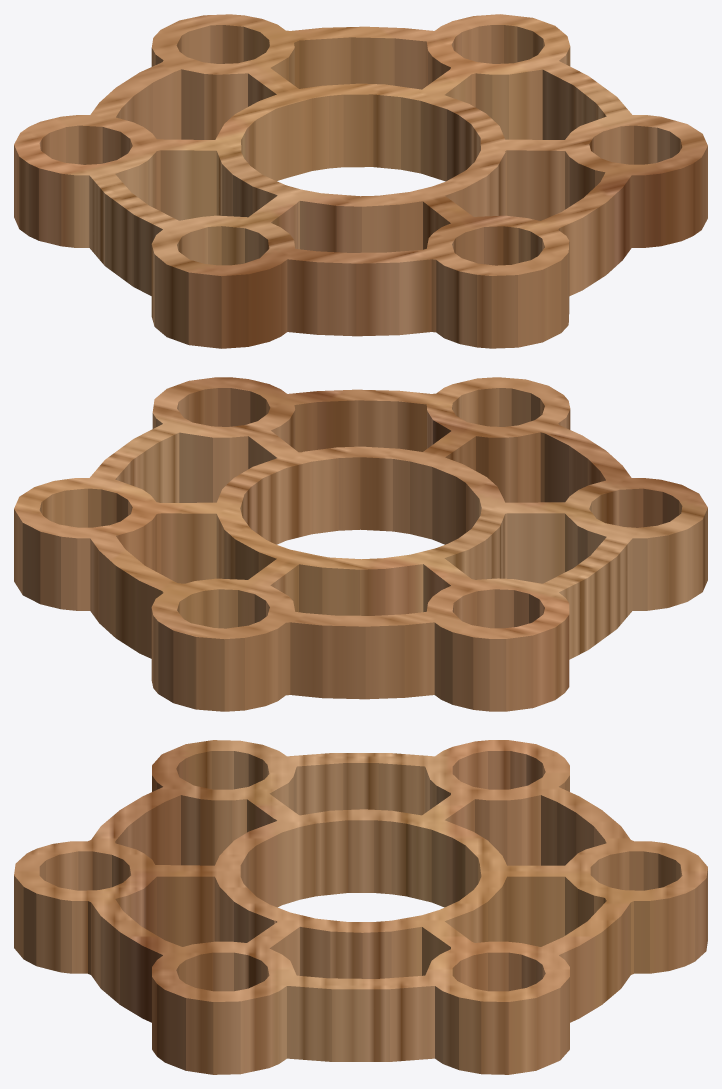
The model's file is wick-civic-responsibility.glb.
The picture shows the model from 3 angles, top to bottom: view 1: azimuth 30°, elevation 25°; view 2: azimuth 150°, elevation 25°; view 3: azimuth 270°, elevation 25°; orthographic projection.
Size of the model in its own units: 0.098 by 0.0127 by 0.1097.
Materials: 1 (1 with a texture image).
